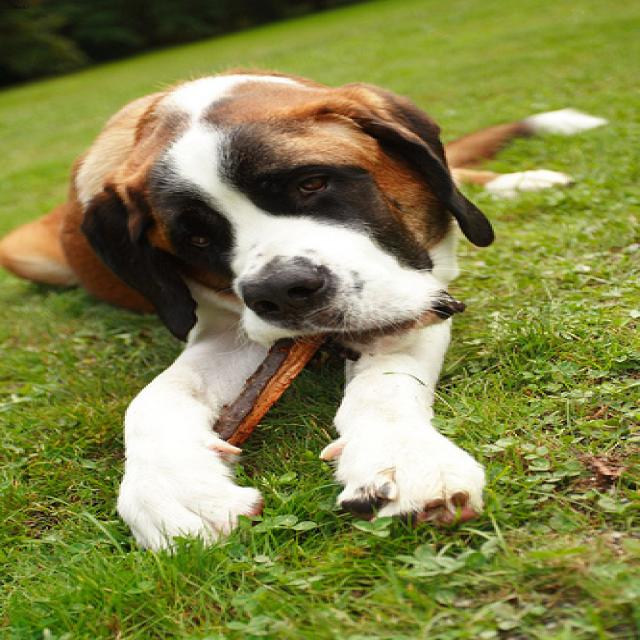dog-saint_bernard: (2, 67, 619, 564)
